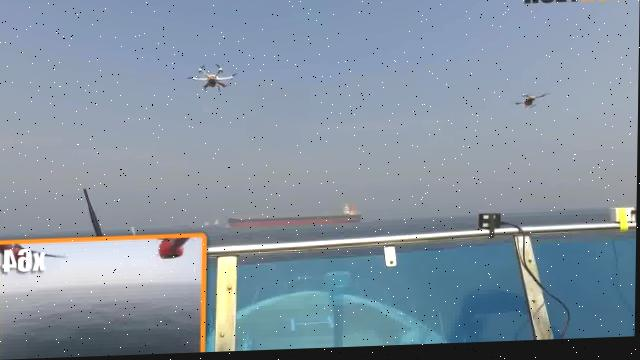drone: (0, 71, 639, 360)
